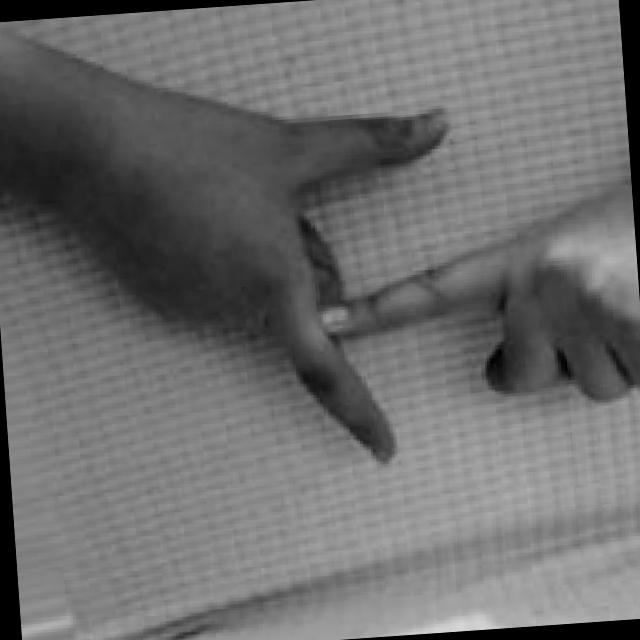F: (108, 34, 640, 478)
